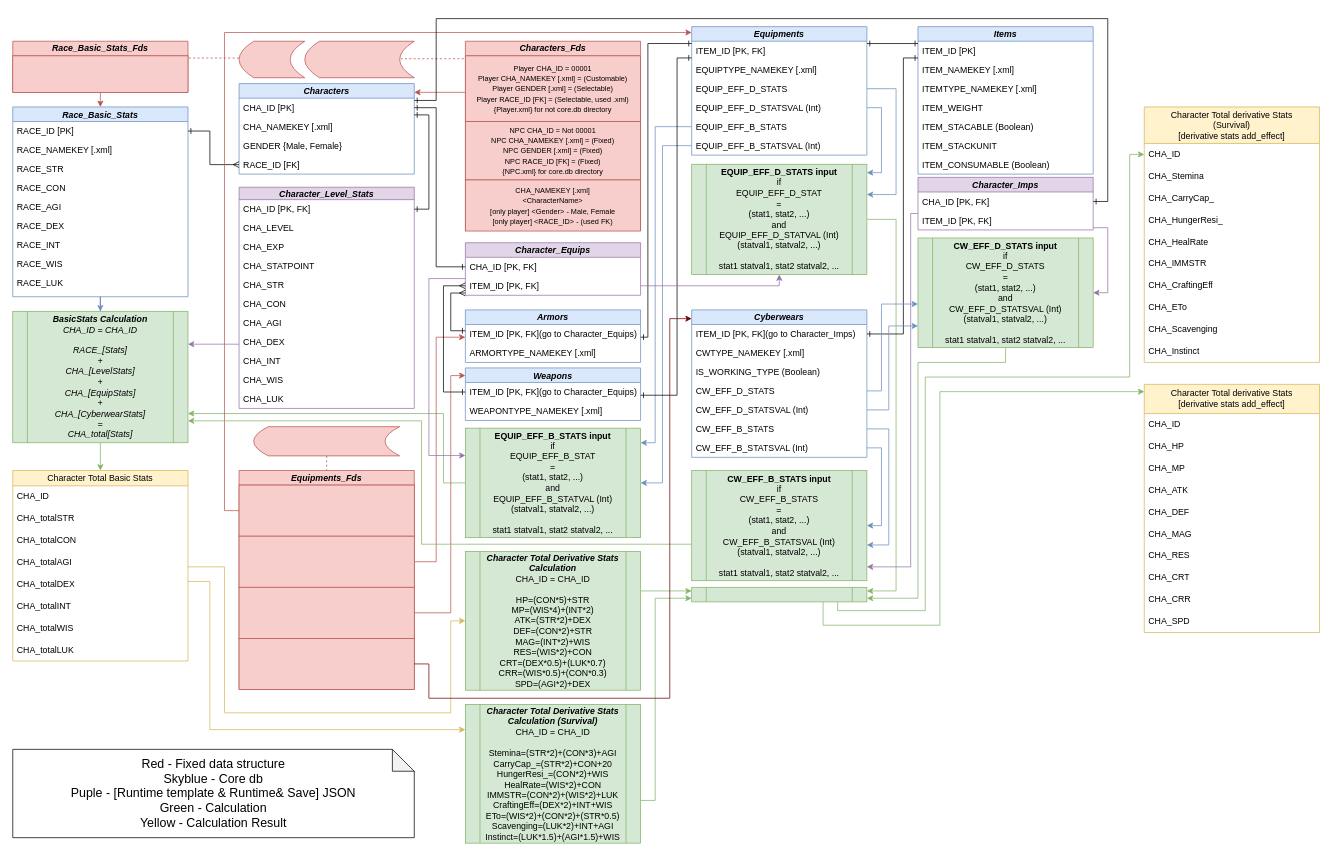
Some shapes in this 1332 by 856 pixel diagram are drawn without their labels. The shapes that lost their labels are listed below. From the top down, each one's centre as x and y in pixels, then its label:
the point at 100,73: RACE_NAMEKEY [.xml] <RaceName> <RaceDesc>
the point at 271,59: Race.xml
the point at 359,59: Player.xml, NPC.xml
the point at 326,441: Armors.xml, Weapons.xml or Equipment.xml
the point at 326,510: EQUIPTYPE_NAMEKEY [.xml] <EquipType> - Armors, Weapons, Cyberwears
the point at 326,561: ARMORTYPE_NAMEKEY [.xml] [미정]
the point at 326,612: WEAPONTYPE_NAMEKEY [.xml] [미정]
the point at 779,594: (CHA + EQUIP + CW)_D_STATS
the point at 326,663: CWTYPE_NAMEKEY [.xml] [미정]
